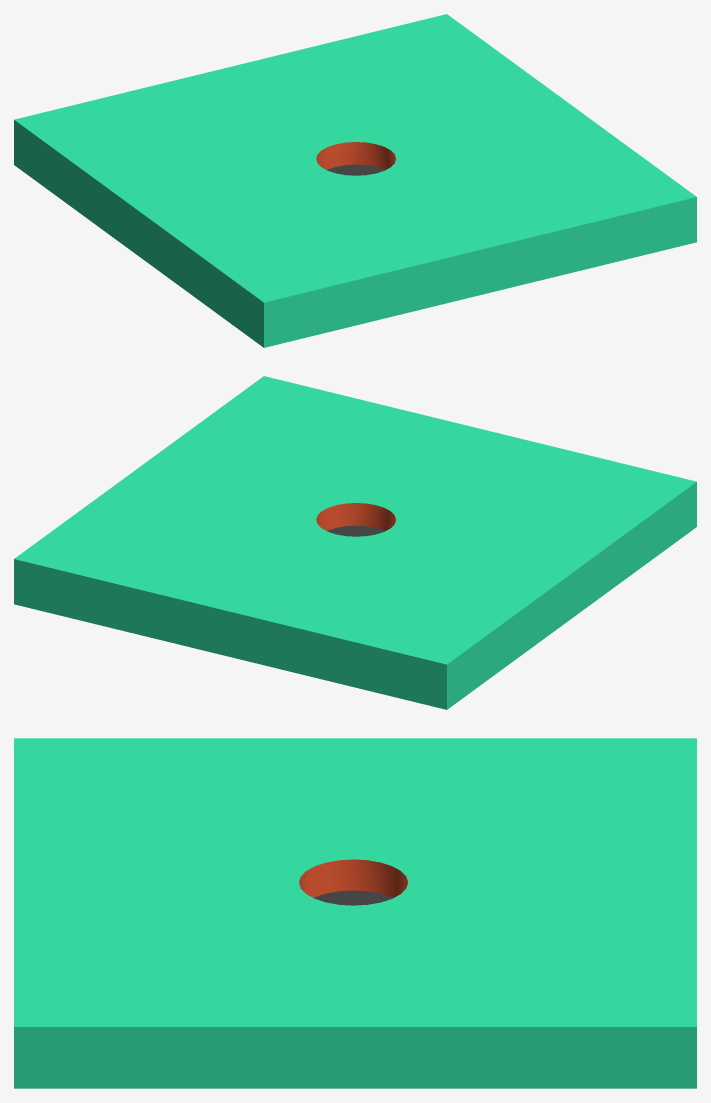
Rendered from track_hole.fbx.
3 renders of one model, top to bottom at view 1: azimuth 30°, elevation 25°; view 2: azimuth 150°, elevation 25°; view 3: azimuth 270°, elevation 25°, orthographic. The views are drawn at different scales.
Parts seen in each view (by area): view 1: open_hole_24; view 2: open_hole_24; view 3: open_hole_24.
Boxes of the visible parts, x1=… form: open_hole_24: x1=14, y1=14, x2=696, y2=347; open_hole_24: x1=14, y1=376, x2=696, y2=709; open_hole_24: x1=14, y1=738, x2=696, y2=1088.
Size of the model in its own units: 10 by 1 by 10.
